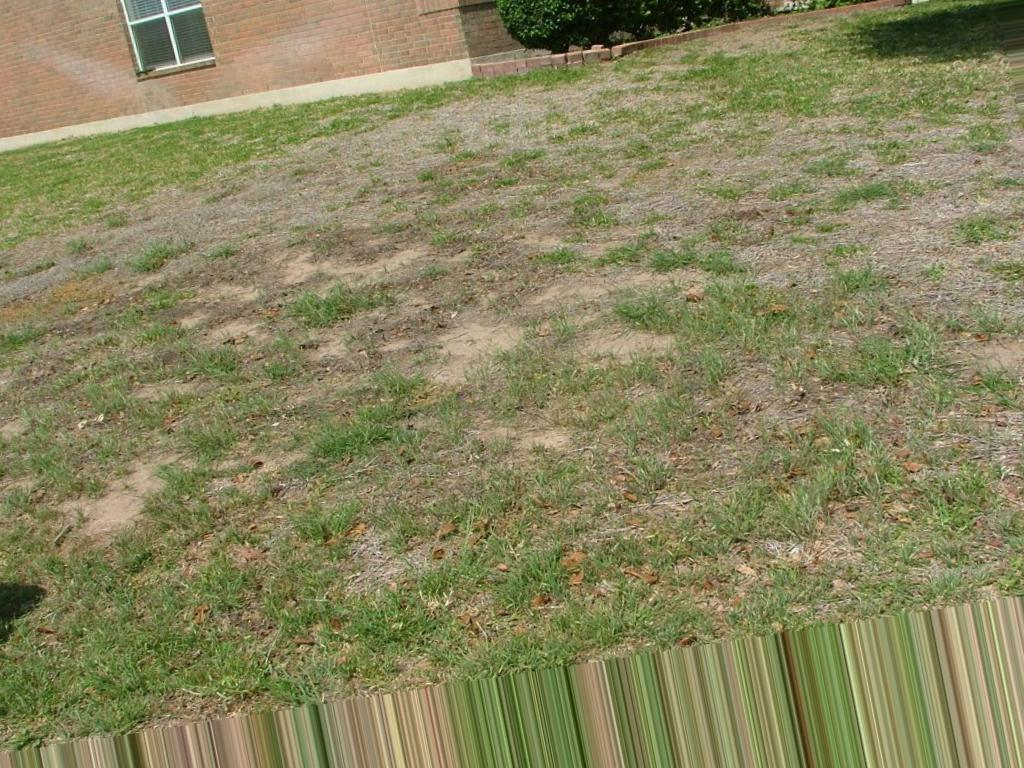patch: (549, 258, 647, 315), (467, 323, 559, 378), (302, 156, 374, 213), (380, 252, 449, 303), (590, 321, 663, 368), (508, 229, 590, 264), (161, 215, 249, 244), (404, 133, 459, 164), (92, 482, 125, 521), (404, 329, 441, 356)
